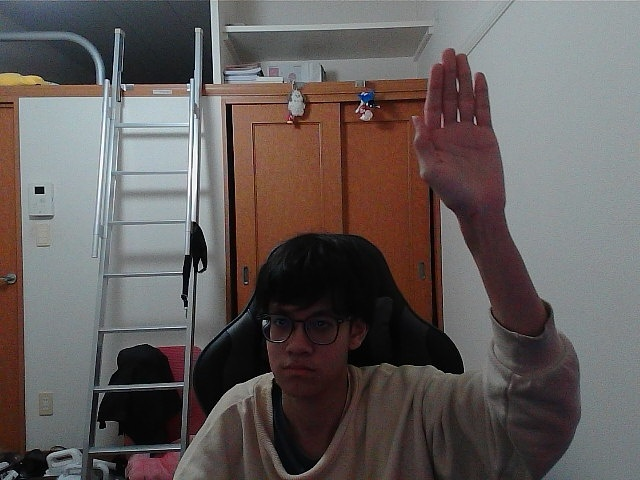open_palm: (420, 57, 486, 203)
